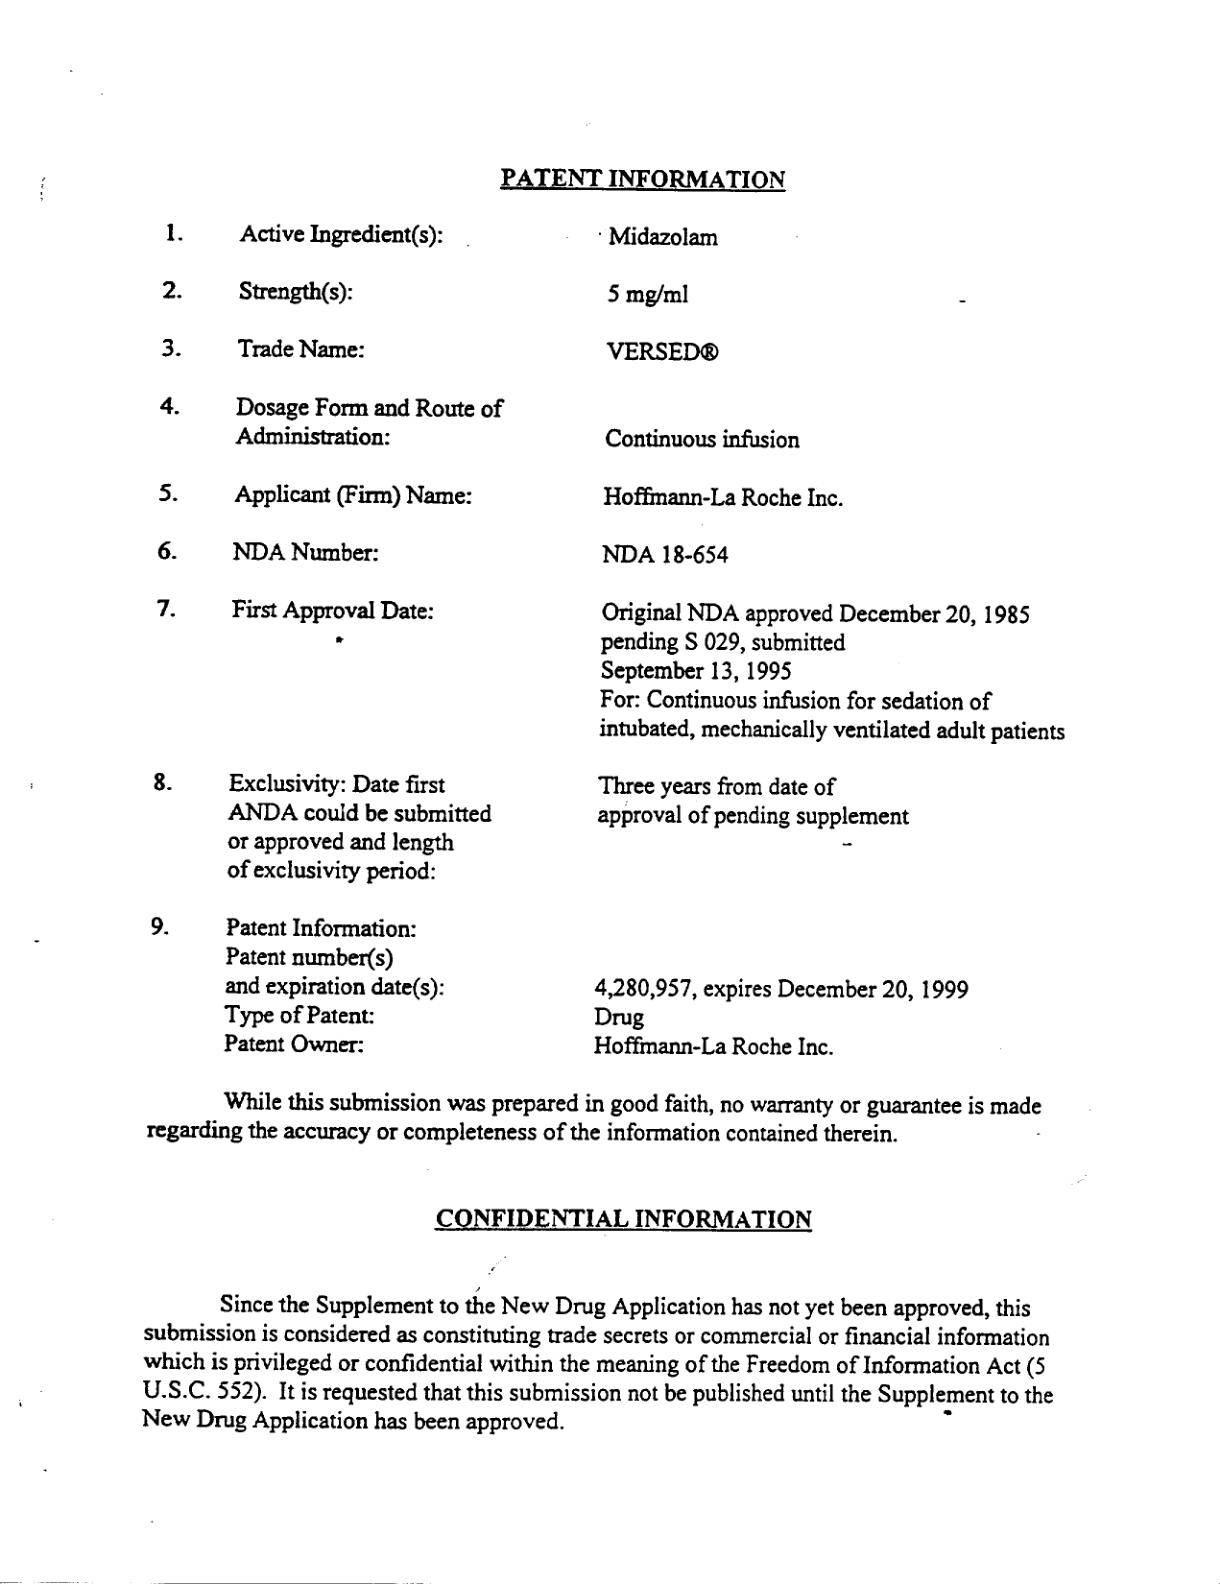nolines: (145, 213, 1073, 1057)
